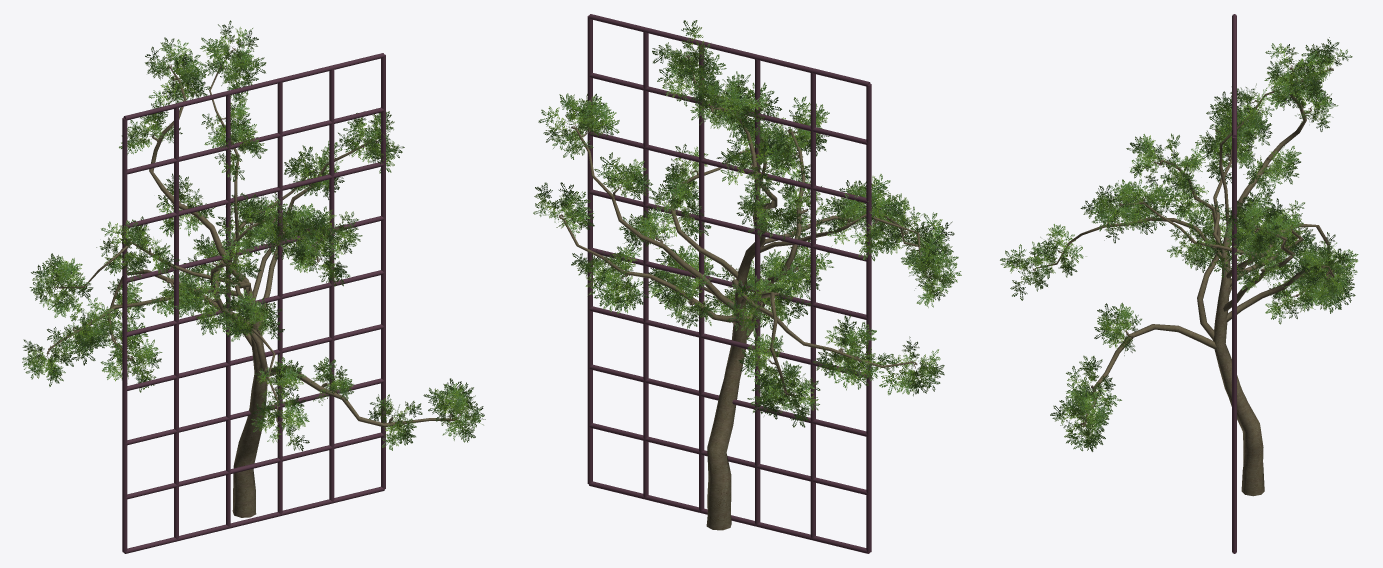
The model's file is tree_001_trellis.glb.
3 views of the same model, side by side, from view 1: azimuth 30°, elevation 25°; view 2: azimuth 150°, elevation 25°; view 3: azimuth 270°, elevation 25° (orthographic). The views are drawn at different scales.
Parts seen in each view (by area): view 1: Tree, Trellis; view 2: Tree, Trellis; view 3: Tree, Trellis.
Part boxes in pixels (left/top/right/bottom): Tree: left=22, top=20, right=485, bottom=517; Trellis: left=122, top=53, right=385, bottom=553; Tree: left=533, top=20, right=961, bottom=530; Trellis: left=587, top=14, right=871, bottom=553; Tree: left=1000, top=37, right=1358, bottom=496; Trellis: left=1232, top=14, right=1236, bottom=553.
Size of the model in its own units: 29.94 by 35.88 by 26.09.
Materials: 3 (2 with a texture image).
